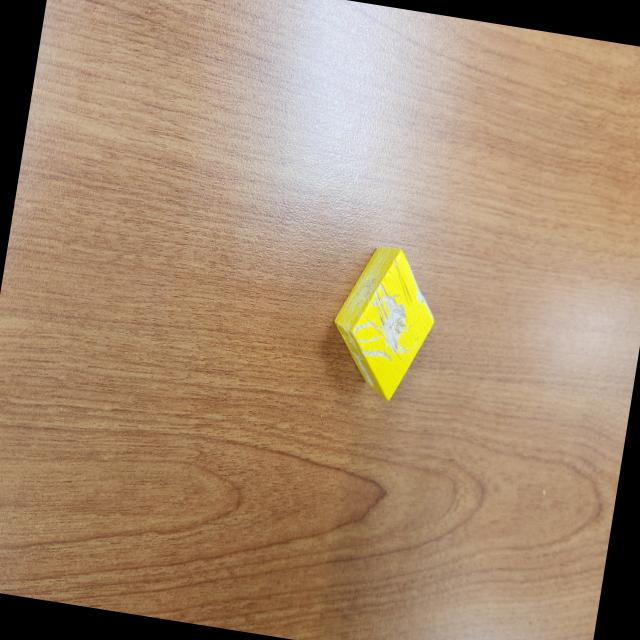broken: (324, 238, 446, 407)
